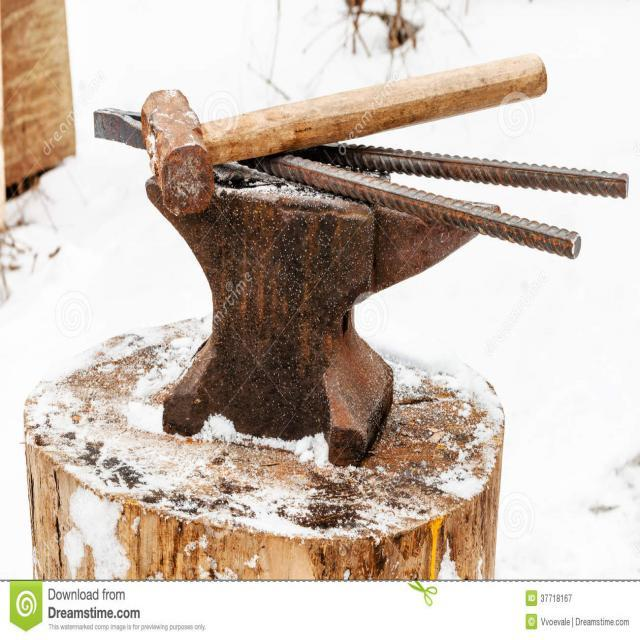hammer: (130, 48, 552, 215)
